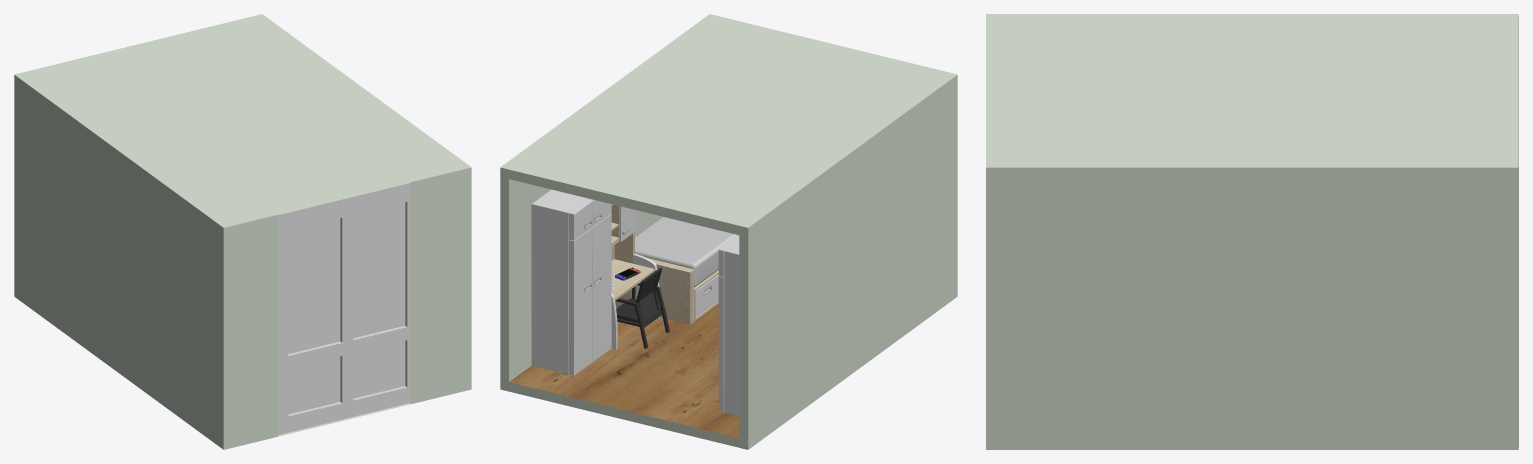
File: ilsin_0416.fbx
The picture shows the model from 3 angles, left to right: view 1: azimuth 30°, elevation 25°; view 2: azimuth 150°, elevation 25°; view 3: azimuth 270°, elevation 25°; orthographic projection. The views are drawn at different scales.
Visible parts, largest first — view 1: polySurface22, pCube25, pCube26, pCube27, pCube29, pCube28; view 2: polySurface22, closet:closet_body, closet:closet_door_down, bed2:pCube6, desk0416:desk_body, bed2:pCube4, chair, closet:closet_door_up, bed2:pCube2, desk0416:desk_door_r; view 3: polySurface22.
Part boxes in pixels (left/top/right/bottom): polySurface22: left=14, top=14, right=471, bottom=449; pCube25: left=278, top=182, right=410, bottom=434; pCube26: left=353, top=202, right=405, bottom=338; pCube27: left=288, top=218, right=340, bottom=353; pCube29: left=353, top=340, right=405, bottom=398; pCube28: left=288, top=356, right=340, bottom=414; polySurface22: left=500, top=14, right=957, bottom=449; closet:closet_body: left=531, top=189, right=739, bottom=415; closet:closet_door_down: left=568, top=213, right=724, bottom=412; bed2:pCube6: left=635, top=216, right=737, bottom=286; desk0416:desk_body: left=611, top=204, right=660, bottom=349; bed2:pCube4: left=648, top=258, right=694, bottom=324; chair: left=616, top=268, right=669, bottom=348; closet:closet_door_up: left=569, top=198, right=739, bottom=277; bed2:pCube2: left=696, top=274, right=718, bottom=317; desk0416:desk_door_r: left=619, top=206, right=636, bottom=241; polySurface22: left=986, top=14, right=1518, bottom=449.
Size of the model in its own units: 32.42 by 27.74 by 47.47.
Materials: 17 (4 with a texture image).
